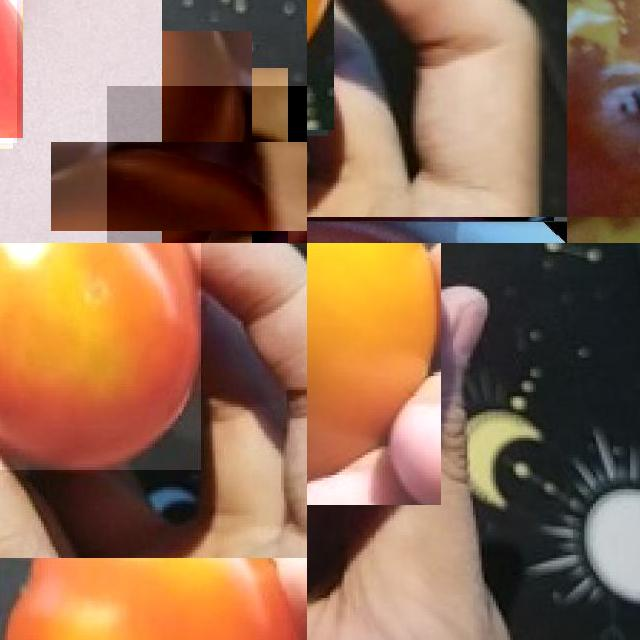Rotten Tomato: (307, 243, 441, 505), (106, 86, 307, 243)
